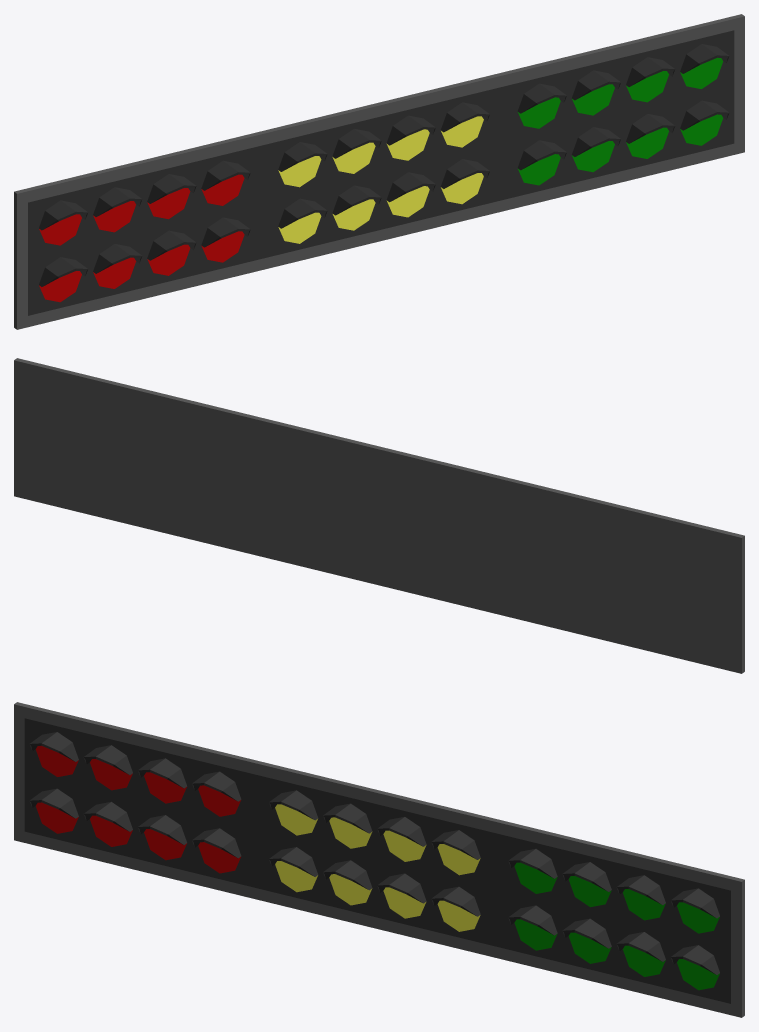
The model's file is Traffic_light_free.fbx.
3 views of the same model, one above another, from view 1: azimuth 30°, elevation 25°; view 2: azimuth 150°, elevation 25°; view 3: azimuth 330°, elevation 25° (orthographic).
Visible parts, largest first — view 1: Traffic_light_free; view 2: Traffic_light_free; view 3: Traffic_light_free.
Boxes of the visible parts, x1,y1,x2,y2 form: Traffic_light_free: (14,14,744,329); Traffic_light_free: (14,358,744,673); Traffic_light_free: (14,702,744,1017).
Size of the model in its own units: 672 by 120 by 30.
